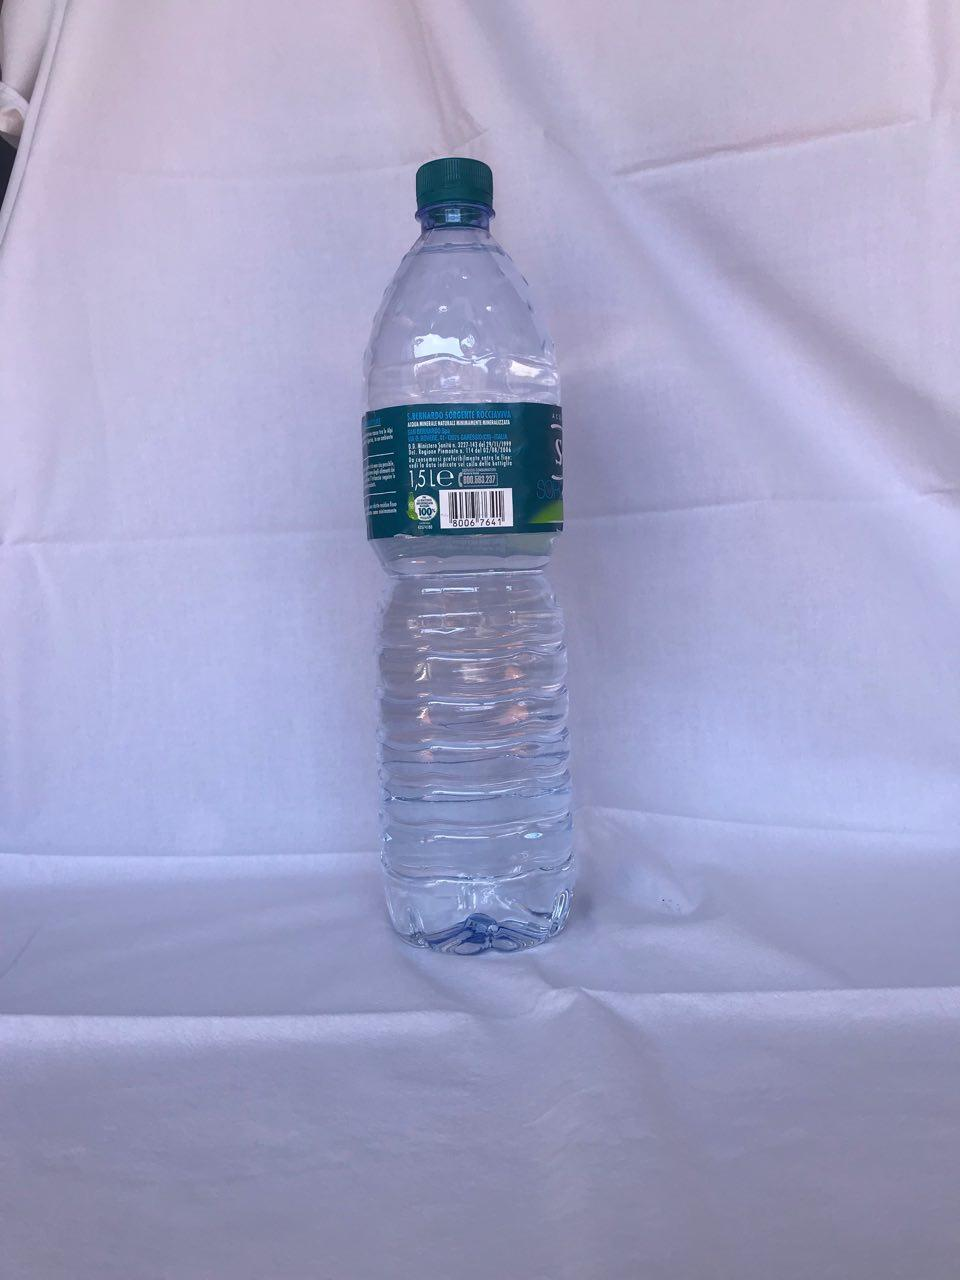san_bernardo: (358, 154, 578, 954)
